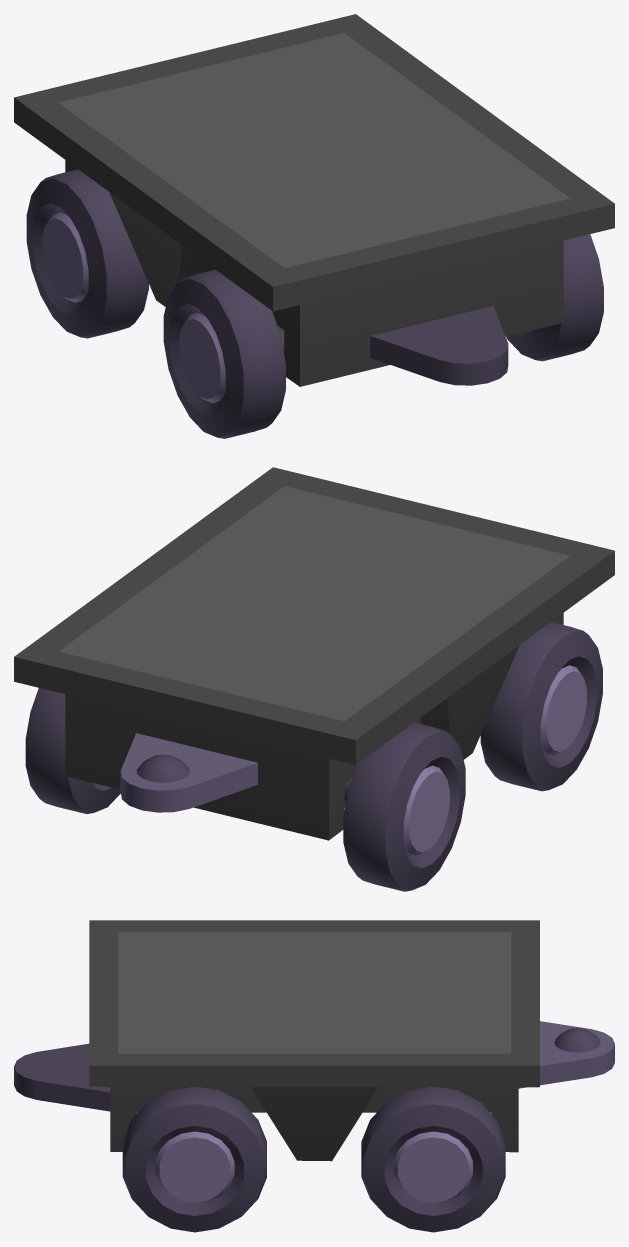
Rendered from Brick_Trolley.fbx.
The picture shows the model from 3 angles, top to bottom: view 1: azimuth 30°, elevation 25°; view 2: azimuth 150°, elevation 25°; view 3: azimuth 270°, elevation 25°; orthographic projection. The views are drawn at different scales.
Parts seen in each view (by area): view 1: Trolley; view 2: Trolley; view 3: Trolley.
Part boxes in pixels (bbox=[...]): Trolley: bbox=[14, 14, 614, 438]; Trolley: bbox=[14, 467, 614, 891]; Trolley: bbox=[14, 920, 614, 1232].
Size of the model in its own units: 70.36 by 34.29 by 113.
Materials: 1 (1 with a texture image).
